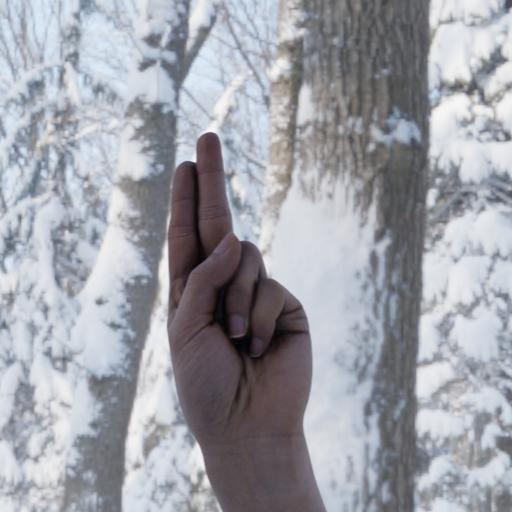U: (161, 122, 321, 512)
